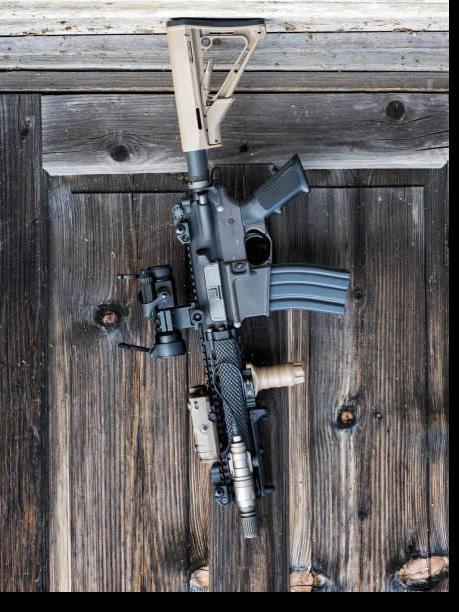larga: (115, 18, 352, 539)
